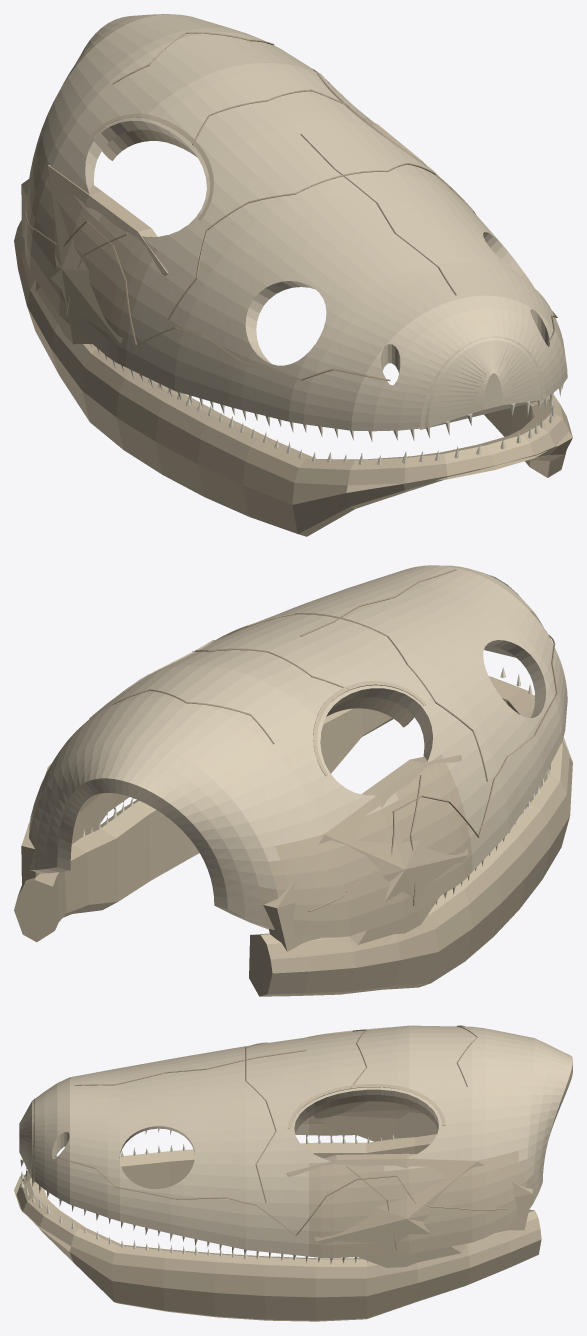
3 views of the same model, one above another, from view 1: azimuth 30°, elevation 25°; view 2: azimuth 150°, elevation 25°; view 3: azimuth 270°, elevation 25° (orthographic). The views are drawn at different scales.
Visible parts, largest first — view 1: Dermal cranial vault and cheeks, Continuous mandibular rami and anterior symphysis, Left broad posterior cheek plate, Simplified dermal panel relief, Premaxillary anterior symphysis, Left downturned spiracular lamina, Lower fine tooth fringe, Upper fine tooth fringe; view 2: Dermal cranial vault and cheeks, Continuous mandibular rami and anterior symphysis, Left broad posterior cheek plate, Simplified dermal panel relief, Left downturned spiracular lamina, Right broad posterior cheek plate; view 3: Dermal cranial vault and cheeks, Continuous mandibular rami and anterior symphysis, Right broad posterior cheek plate, Left broad posterior cheek plate, Simplified dermal panel relief, Right downturned spiracular lamina, Lower fine tooth fringe, Upper fine tooth fringe.
Boxes of the visible parts, x1,y1,x2,y2 form: Dermal cranial vault and cheeks: (24,14,567,431); Continuous mandibular rami and anterior symphysis: (14,220,572,536); Left broad posterior cheek plate: (21,165,168,344); Simplified dermal panel relief: (24,32,557,381); Premaxillary anterior symphysis: (420,336,545,429); Left downturned spiracular lamina: (89,113,214,220); Lower fine tooth fringe: (129,369,555,465); Upper fine tooth fringe: (90,344,563,441); Dermal cranial vault and cheeks: (29,565,567,937); Continuous mandibular rami and anterior symphysis: (14,676,572,996); Left broad posterior cheek plate: (263,755,468,951); Simplified dermal panel relief: (112,569,557,911); Left downturned spiracular lamina: (313,681,426,776); Right broad posterior cheek plate: (21,763,119,886); Dermal cranial vault and cheeks: (20,1025,572,1257); Continuous mandibular rami and anterior symphysis: (14,1134,541,1321); Right broad posterior cheek plate: (286,1153,532,1267); Left broad posterior cheek plate: (313,1101,437,1141); Simplified dermal panel relief: (54,1025,505,1250); Right downturned spiracular lamina: (287,1083,445,1133); Lower fine tooth fringe: (20,1134,394,1261); Upper fine tooth fringe: (20,1128,368,1264).
Bounding box in the file's own units: 0.0305 × 0.025 × 0.0556.
